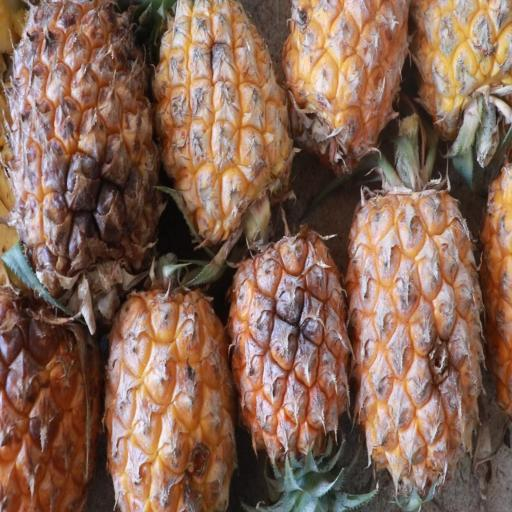Pineapple - v8 v1: (3, 0, 156, 304), (342, 176, 482, 494), (153, 0, 296, 246), (107, 275, 240, 512), (226, 228, 352, 467), (0, 293, 103, 512), (280, 0, 410, 172), (413, 0, 512, 166)
